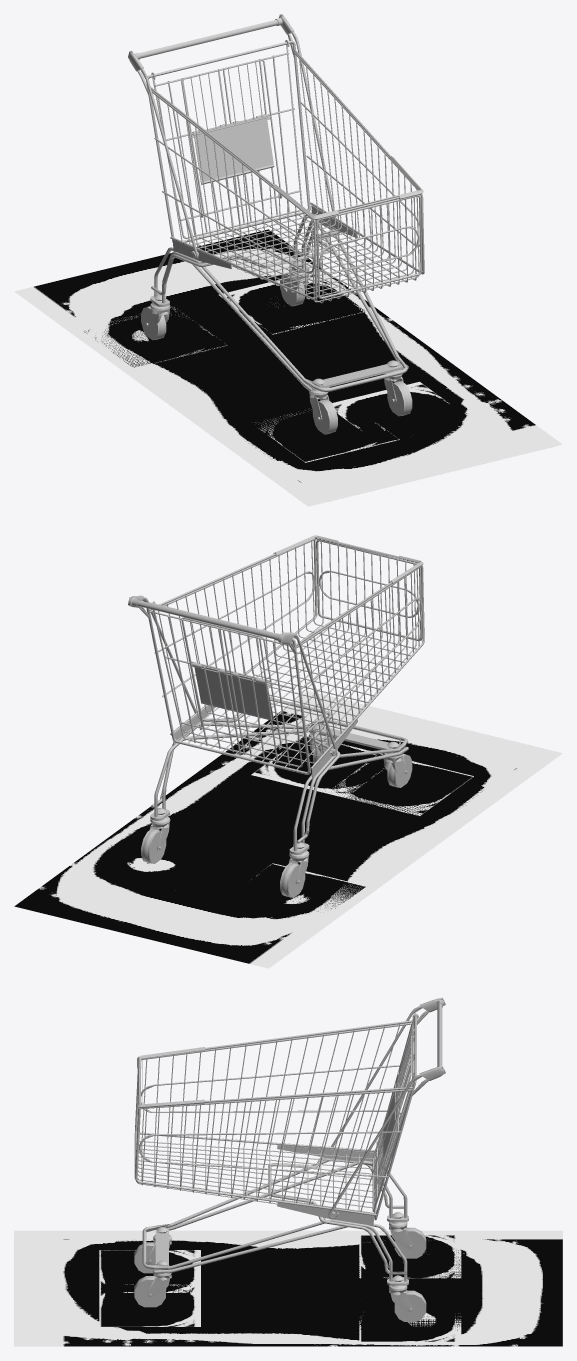
File: Trolley.FBX
3 views of the same model, one above another, from view 1: azimuth 30°, elevation 25°; view 2: azimuth 150°, elevation 25°; view 3: azimuth 270°, elevation 25° (orthographic). The views are drawn at different scales.
Visible parts, largest first — view 1: trolley_shadow_body, LOD_00_trolley_body, trolley_shadow_wheel_RL, LOD_00_trolley_seat_plastic, trolley_shadow_wheel_FR, LOD_00_trolley_door, trolley_shadow_wheel_FL, trolley_shadow_wheel_RR, LOD_00_trolley_seat, LOD_02_trolley_seat_plastic, LOD_02_trolley_body, LOD_01_trolley_body; view 2: trolley_shadow_body, LOD_00_trolley_body, trolley_shadow_wheel_FR, LOD_00_trolley_door, trolley_shadow_wheel_FL, LOD_00_trolley_seat_plastic, trolley_shadow_wheel_RR, LOD_00_trolley_seat, LOD_02_trolley_body, LOD_01_trolley_body; view 3: trolley_shadow_body, LOD_00_trolley_body, trolley_shadow_wheel_RR, trolley_shadow_wheel_FL, trolley_shadow_wheel_FR, trolley_shadow_wheel_RL, LOD_00_trolley_door, LOD_02_trolley_body, LOD_00_trolley_seat, LOD_01_trolley_body, LOD_00_trolley_wheel_pivot_RL, LOD_00_trolley_wheel_pivot_RR.
Boxes of the visible parts, bbox=[...] form: trolley_shadow_body: bbox=[14, 229, 562, 506]; LOD_00_trolley_body: bbox=[128, 16, 424, 392]; trolley_shadow_wheel_RL: bbox=[218, 272, 365, 334]; LOD_00_trolley_seat_plastic: bbox=[192, 114, 274, 184]; trolley_shadow_wheel_FR: bbox=[255, 408, 399, 462]; LOD_00_trolley_door: bbox=[151, 40, 302, 238]; trolley_shadow_wheel_FL: bbox=[332, 381, 450, 433]; trolley_shadow_wheel_RR: bbox=[80, 306, 227, 368]; LOD_00_trolley_seat: bbox=[181, 59, 282, 217]; LOD_02_trolley_seat_plastic: bbox=[197, 120, 259, 182]; LOD_02_trolley_body: bbox=[128, 15, 419, 386]; LOD_01_trolley_body: bbox=[135, 18, 422, 391]; trolley_shadow_body: bbox=[14, 691, 562, 968]; LOD_00_trolley_body: bbox=[130, 535, 424, 854]; trolley_shadow_wheel_FR: bbox=[327, 753, 473, 815]; LOD_00_trolley_door: bbox=[152, 601, 302, 767]; trolley_shadow_wheel_FL: bbox=[251, 735, 383, 797]; LOD_00_trolley_seat_plastic: bbox=[192, 662, 274, 720]; trolley_shadow_wheel_RR: bbox=[251, 863, 366, 911]; LOD_00_trolley_seat: bbox=[181, 617, 282, 749]; LOD_02_trolley_body: bbox=[128, 537, 419, 841]; LOD_01_trolley_body: bbox=[132, 535, 423, 852]; trolley_shadow_body: bbox=[14, 1230, 562, 1346]; LOD_00_trolley_body: bbox=[134, 998, 444, 1285]; trolley_shadow_wheel_RR: bbox=[359, 1235, 461, 1278]; trolley_shadow_wheel_FL: bbox=[99, 1284, 200, 1326]; trolley_shadow_wheel_FR: bbox=[99, 1250, 200, 1292]; trolley_shadow_wheel_RL: bbox=[359, 1312, 461, 1341]; LOD_00_trolley_door: bbox=[372, 1013, 418, 1211]; LOD_02_trolley_body: bbox=[142, 998, 445, 1281]; LOD_00_trolley_seat: bbox=[374, 1036, 411, 1189]; LOD_01_trolley_body: bbox=[134, 1003, 442, 1283]; LOD_00_trolley_wheel_pivot_RL: bbox=[389, 1275, 413, 1311]; LOD_00_trolley_wheel_pivot_RR: bbox=[389, 1212, 413, 1248].
Bounding box in the file's own units: 1 × 1.04 × 2.
